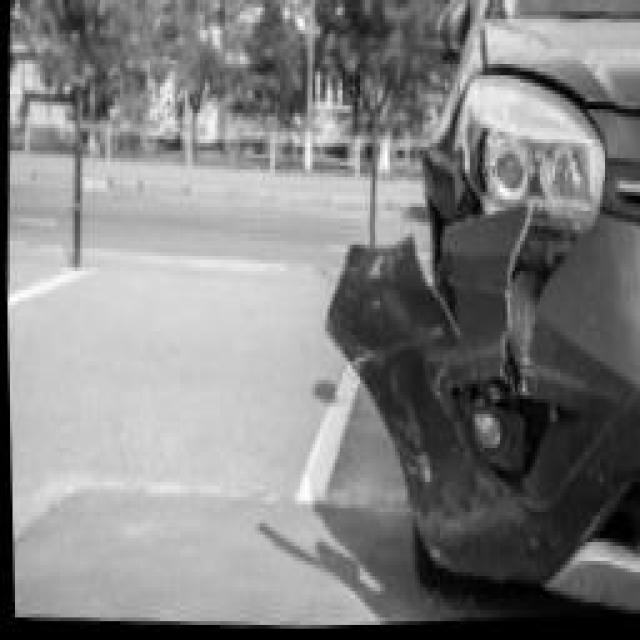Bumper: (320, 208, 640, 618)
Fender: (419, 88, 467, 215)
